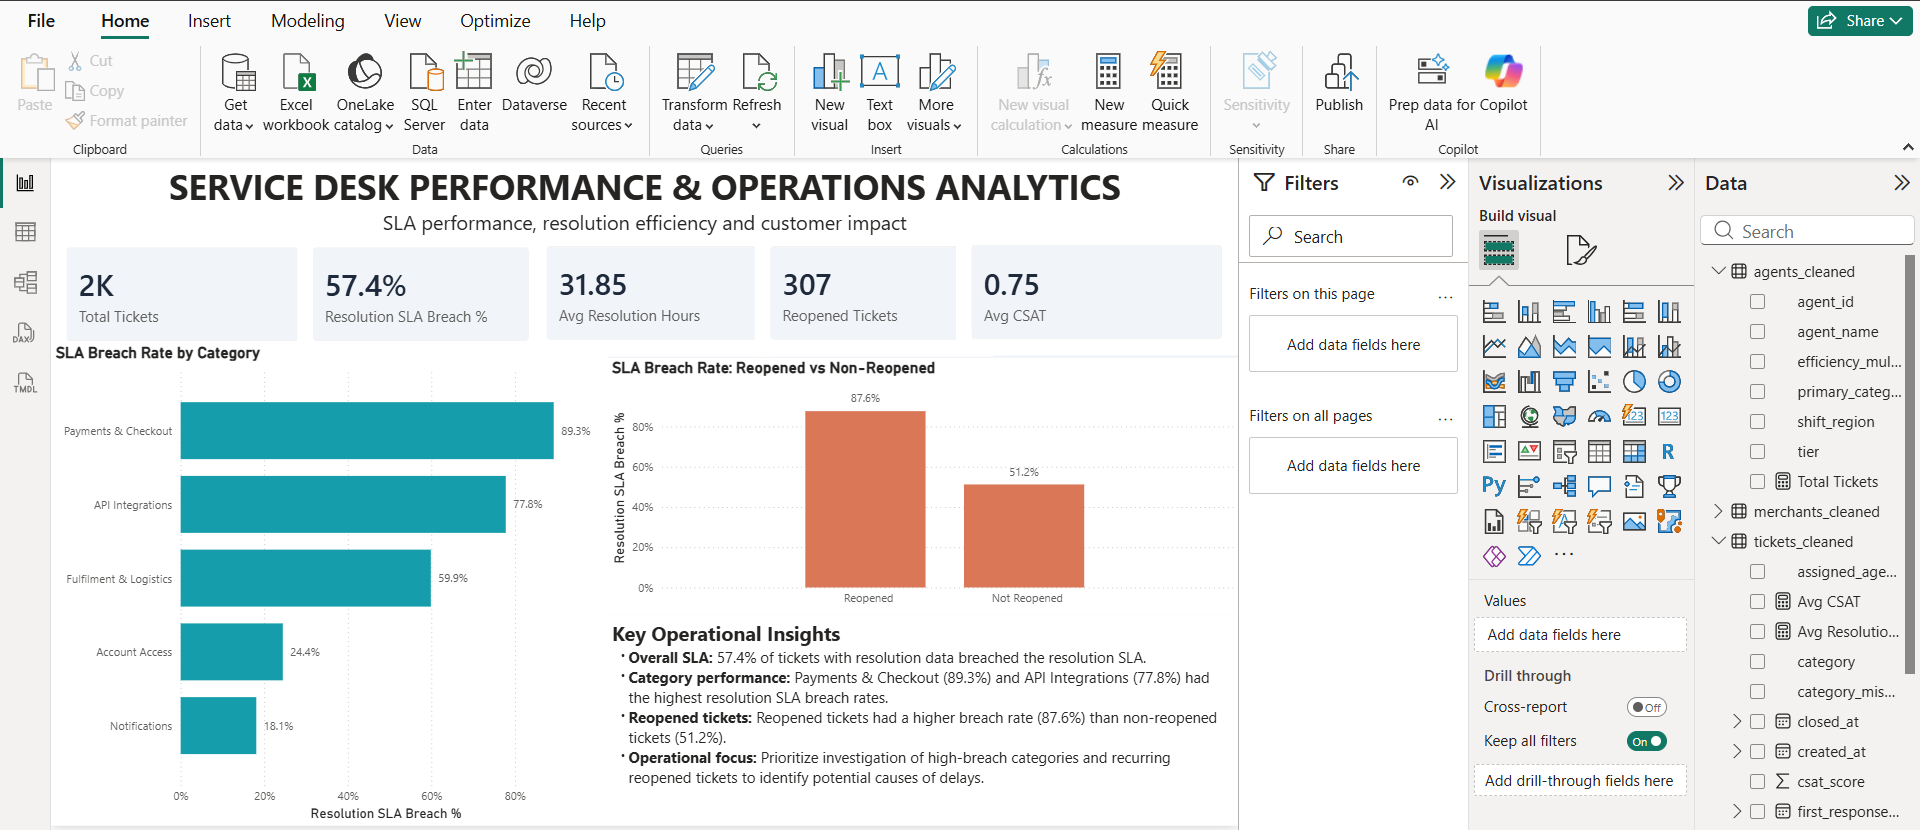

The page's visual inventory and layout, read from the dashboard file:
{"tool":"powerbi","page":{"name":"Page 1","canvas":[1280,720],"ordinal":0},"visuals":[{"type":"cardVisual","fields":{"Data":["agents_cleaned.Total Tickets"]},"box":[0,79.6,299.1,135.8],"z":0},{"type":"cardVisual","fields":{"Data":["tickets_cleaned.Resolution SLA Breach %"]},"box":[264.8,79.6,267.6,135.8],"z":1000},{"type":"cardVisual","fields":{"Data":["tickets_cleaned.Avg Resolution Hours"]},"box":[517.3,78.2,260.7,135.8],"z":2000},{"type":"cardVisual","fields":{"Data":["tickets_cleaned.Reopened Tickets"]},"box":[758.8,78.2,256.6,135.8],"z":3000},{"type":"cardVisual","fields":{"Data":["tickets_cleaned.Avg CSAT"]},"box":[989.4,76.8,267.6,135.8],"z":4000},{"type":"clusteredColumnChart","title":"SLA Breach Rate by Category","fields":{"Y":["tickets_cleaned.Resolution SLA Breach %"],"Category":["tickets_cleaned.category"]},"box":[0,199,599.7,521.4],"z":5000},{"type":"clusteredColumnChart","title":"SLA Breach Rate: Reopened vs Non-Reopened","fields":{"Y":["tickets_cleaned.Resolution SLA Breach %"],"Category":["tickets_cleaned.Reopened Status"]},"box":[612,199,359.5,521.4],"z":6000},{"type":"textbox","box":[0,0,1280.3,93.3],"z":7000},{"type":"textbox","box":[989.4,304.6,290.9,358.1],"z":8000}]}

Visuals, with their boxes on the page's 1280x720 design canvas (x1, y1, x2, y2). These are canvas units, not pixel positions in the 1920x830 screenshot, which may show the page scaled, cropped or inside an application window:
cardVisual - agents_cleaned.Total Tickets: 0 80 299 215
cardVisual - tickets_cleaned.Resolution SLA Breach %: 265 80 532 215
cardVisual - tickets_cleaned.Avg Resolution Hours: 517 78 778 214
cardVisual - tickets_cleaned.Reopened Tickets: 759 78 1015 214
cardVisual - tickets_cleaned.Avg CSAT: 989 77 1257 213
"SLA Breach Rate by Category" clusteredColumnChart: 0 199 600 720
"SLA Breach Rate: Reopened vs Non-Reopened" clusteredColumnChart: 612 199 972 720
textbox: 0 0 1280 93
textbox: 989 305 1280 663
